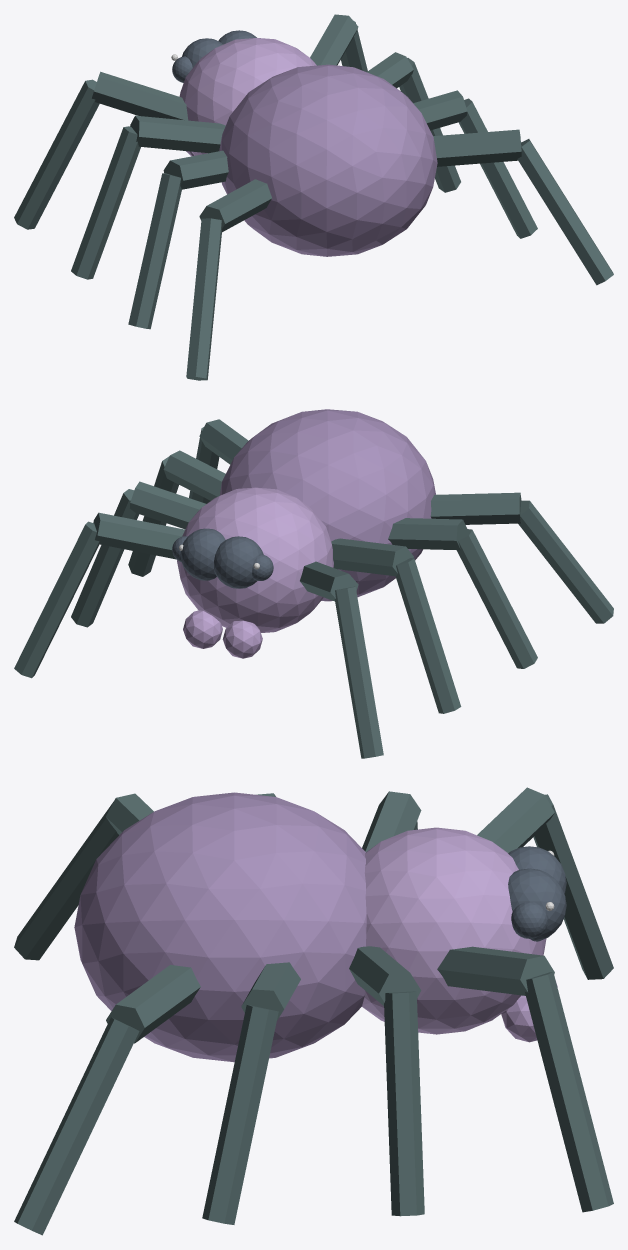
The model's file is spider_worker_violet.glb.
3 views of the same model, one above another, from view 1: azimuth 30°, elevation 25°; view 2: azimuth 150°, elevation 25°; view 3: azimuth 270°, elevation 25° (orthographic). The views are drawn at different scales.
Visible parts, largest first — view 1: Abdomen, Cephalothorax, Leg_-1_0_B, Leg_-1_1_B, Leg_-1_2_B, Leg_-1_3_B, Leg_1_3_B, Leg_-1_1_A, Leg_-1_0_A, Leg_1_3_A, Leg_1_2_B, Leg_-1_3_A (+7 smaller); view 2: Abdomen, Cephalothorax, Leg_-1_0_B, Leg_-1_1_B, Leg_1_0_B, Leg_-1_2_B, Leg_-1_3_B, Leg_1_0_A, Leg_-1_3_A, Leg_1_1_B, Leg_-1_1_A, Leg_-1_2_A (+10 smaller); view 3: Abdomen, Cephalothorax, Leg_1_0_B, Leg_1_1_B, Leg_1_3_B, Leg_1_2_B, Leg_-1_3_B, Leg_-1_0_B, Leg_1_0_A, Leg_1_3_A, Leg_-1_0_A, Leg_1_1_A (+7 smaller).
Boxes of the visible parts, left/top/right/bottom form: Abdomen: left=219, top=64, right=437, bottom=256; Cephalothorax: left=179, top=38, right=316, bottom=155; Leg_-1_0_B: left=14, top=79, right=99, bottom=229; Leg_-1_1_B: left=71, top=126, right=140, bottom=279; Leg_-1_2_B: left=128, top=173, right=181, bottom=329; Leg_-1_3_B: left=186, top=218, right=221, bottom=380; Leg_1_3_B: left=517, top=139, right=613, bottom=285; Leg_-1_1_A: left=130, top=115, right=225, bottom=153; Leg_-1_0_A: left=92, top=71, right=188, bottom=120; Leg_1_3_A: left=433, top=129, right=521, bottom=166; Leg_1_2_B: left=458, top=98, right=537, bottom=238; Leg_-1_3_A: left=199, top=179, right=271, bottom=232; Abdomen: left=220, top=409, right=435, bottom=601; Cephalothorax: left=177, top=487, right=333, bottom=632; Leg_-1_0_B: left=334, top=586, right=383, bottom=758; Leg_-1_1_B: left=395, top=558, right=461, bottom=713; Leg_1_0_B: left=14, top=521, right=99, bottom=678; Leg_-1_2_B: left=457, top=529, right=537, bottom=668; Leg_-1_3_B: left=518, top=500, right=613, bottom=623; Leg_1_0_A: left=93, top=512, right=184, bottom=559; Leg_-1_3_A: left=430, top=492, right=521, bottom=524; Leg_1_1_B: left=71, top=489, right=139, bottom=627; Leg_-1_1_A: left=331, top=538, right=413, bottom=576; Leg_-1_2_A: left=388, top=518, right=467, bottom=550; Abdomen: left=74, top=792, right=366, bottom=1062; Cephalothorax: left=362, top=827, right=546, bottom=1034; Leg_1_0_B: left=525, top=972, right=613, bottom=1212; Leg_1_1_B: left=384, top=991, right=424, bottom=1216; Leg_1_3_B: left=14, top=1017, right=139, bottom=1235; Leg_1_2_B: left=202, top=1005, right=278, bottom=1224; Leg_-1_3_B: left=14, top=801, right=118, bottom=960; Leg_-1_0_B: left=533, top=794, right=613, bottom=979; Leg_1_0_A: left=437, top=946, right=554, bottom=995; Leg_1_3_A: left=106, top=964, right=200, bottom=1043; Leg_-1_0_A: left=477, top=787, right=554, bottom=852; Leg_1_1_A: left=349, top=946, right=421, bottom=1005.
Size of the model in its own units: 1.72 by 0.7869 by 1.48.
